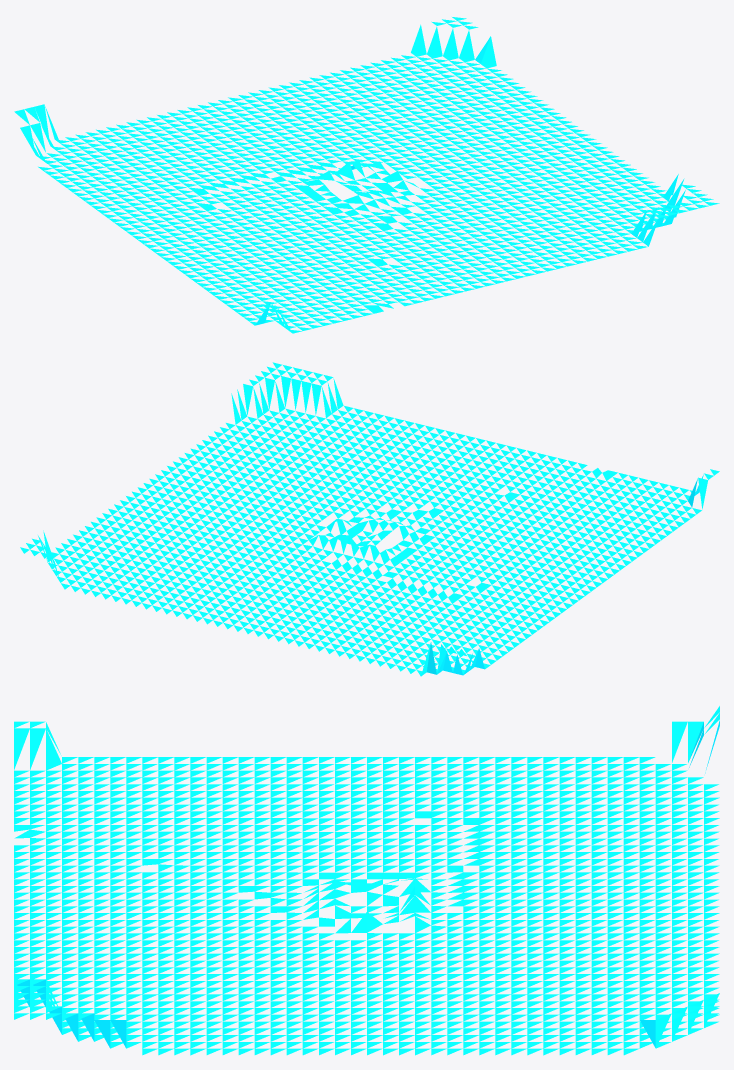
File: dock_AzurLane.glb
The picture shows the model from 3 angles, top to bottom: view 1: azimuth 30°, elevation 25°; view 2: azimuth 150°, elevation 25°; view 3: azimuth 270°, elevation 25°; orthographic projection. The views are drawn at different scales.
Parts seen in each view (by area): view 1: Terrain; view 2: Terrain; view 3: Terrain.
Part boxes in pixels (x1,y1,x2,y2): Terrain: (14, 17, 719, 333); Terrain: (20, 362, 719, 676); Terrain: (14, 706, 719, 1055).
Size of the model in its own units: 396 by 32 by 396.
